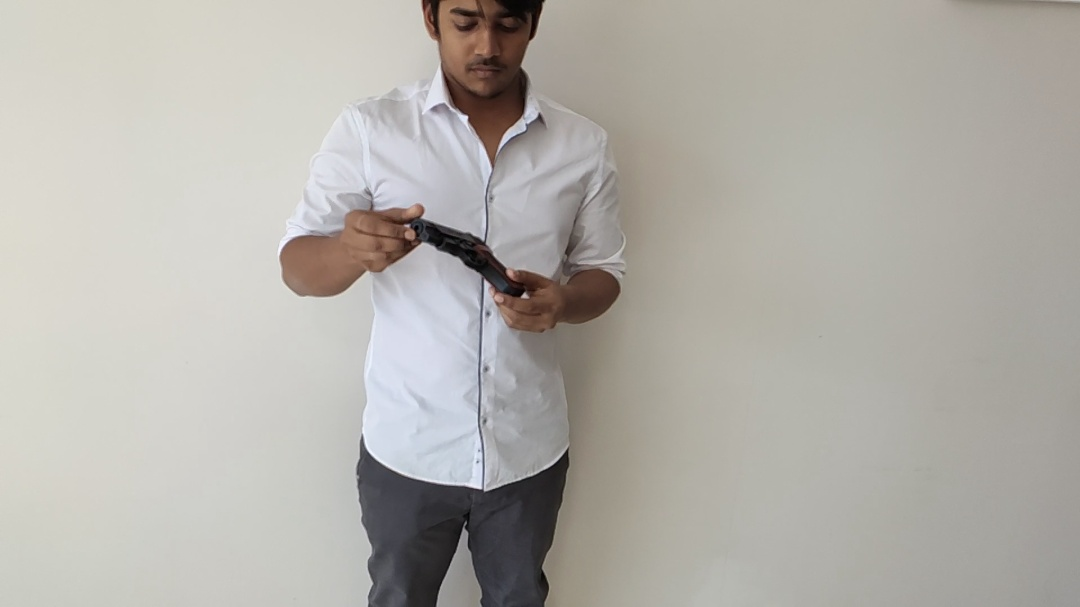gun: (111, 65, 960, 599)
